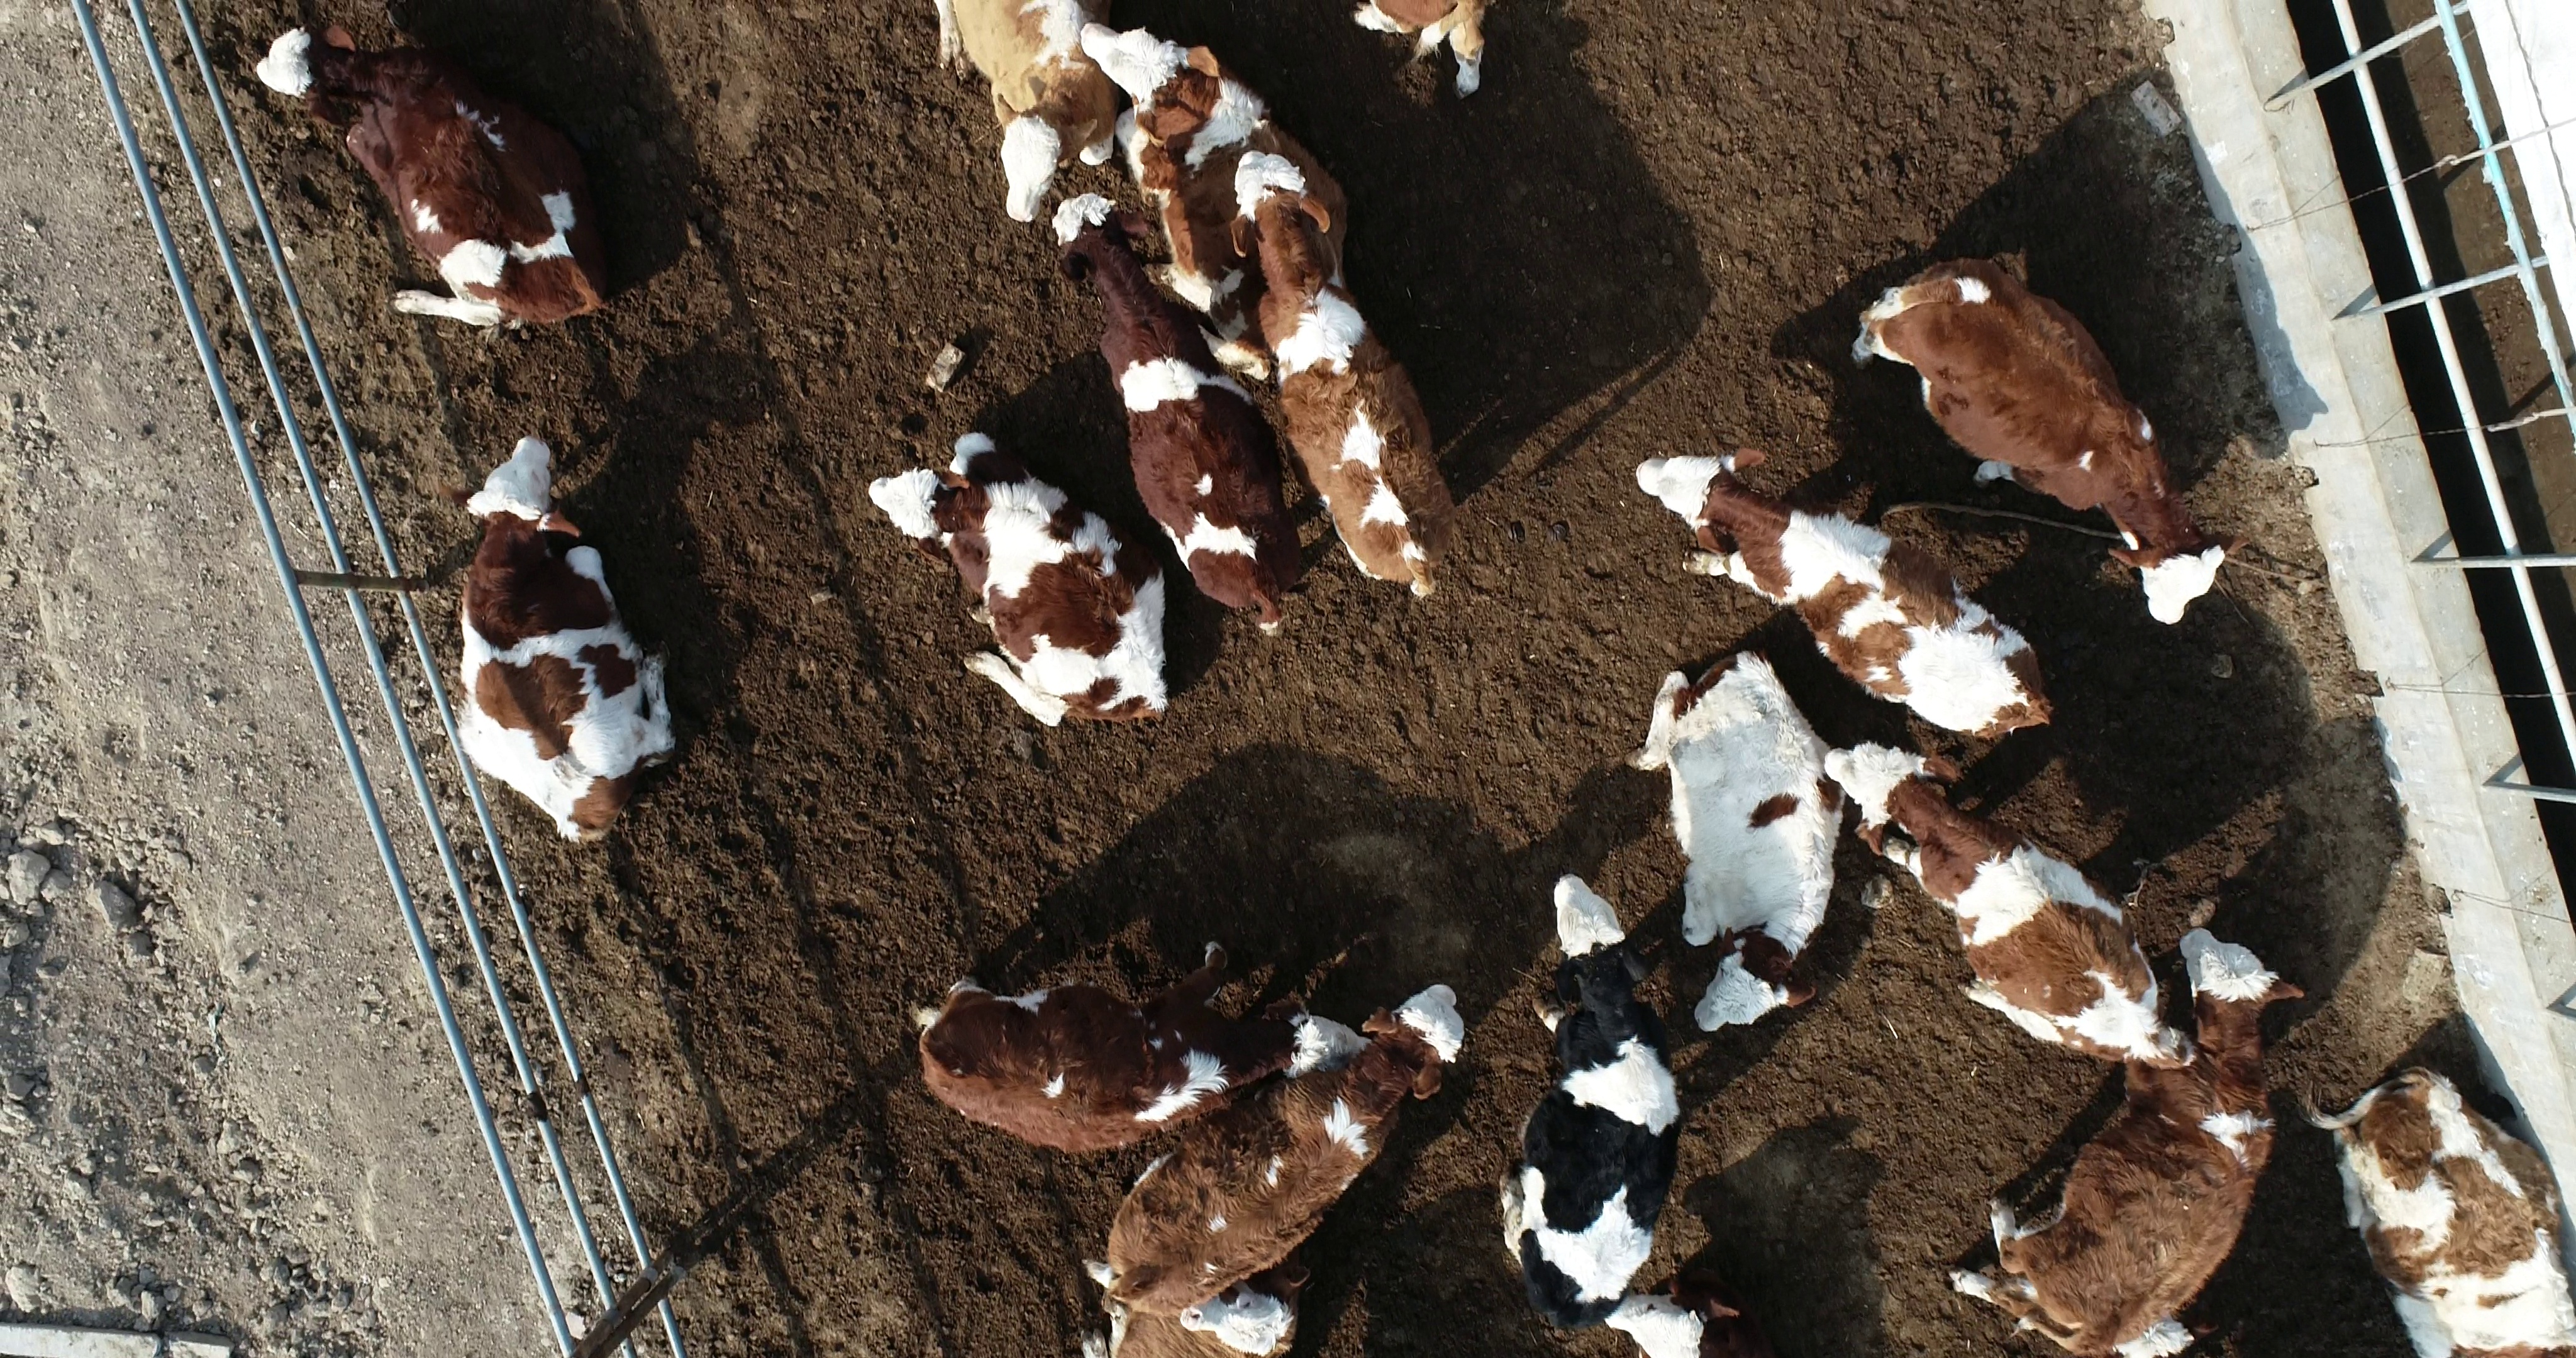cattle: (1941, 917, 2315, 1358), (1847, 249, 2259, 630), (1630, 436, 2065, 738), (1825, 738, 2199, 1075), (247, 15, 635, 334), (1043, 189, 1307, 641), (1225, 143, 1463, 600), (900, 934, 1371, 1164), (446, 429, 683, 855), (860, 423, 1179, 738), (1492, 871, 1692, 1341), (1620, 639, 1852, 1041)
